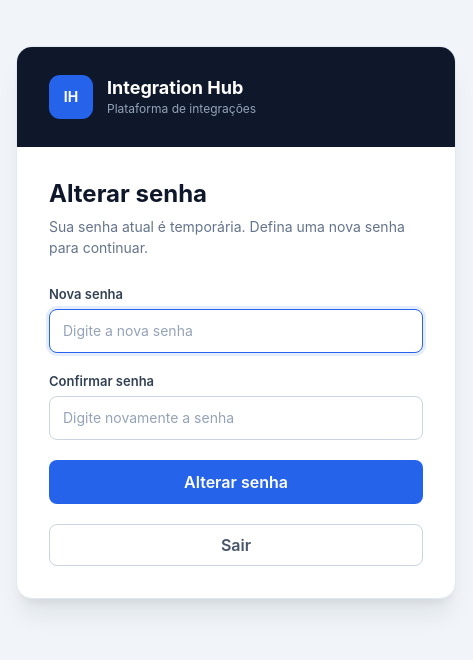
Scenario: ChangePasswordPage › valida confirmação e tamanho mínimo da senha
This screenshot has width=473, height=660.
Type "123" into the password field labelled "Nova senha".
click(236, 330); type("123")  # box [49,308,423,352]
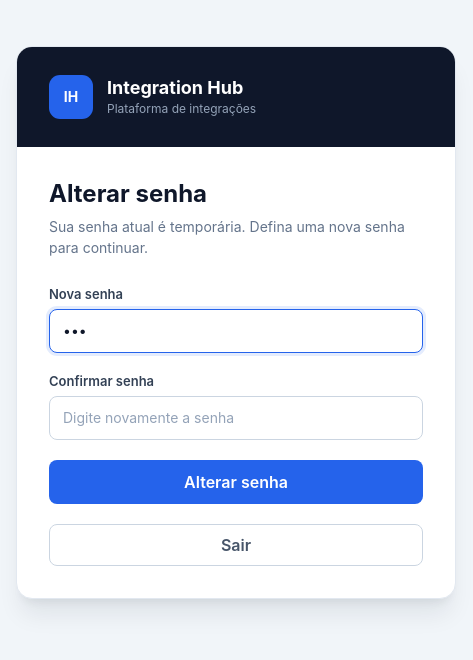
Type "123" into the password field labelled "Confirmar senha".
click(236, 418); type("123")  # box [49,396,423,440]
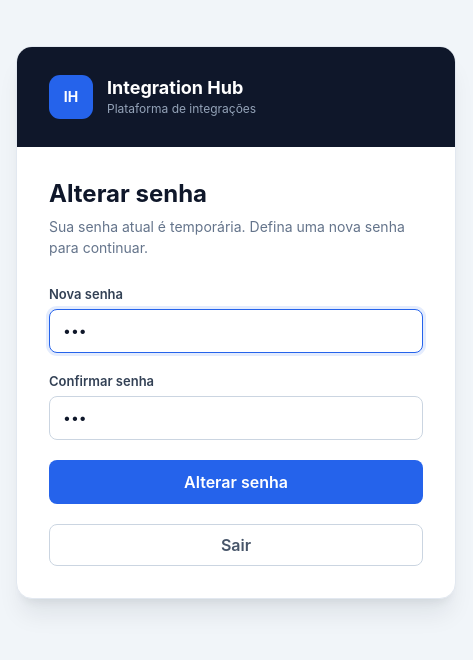
Click the button "Alterar senha".
click(236, 482)  # box [49,460,423,504]
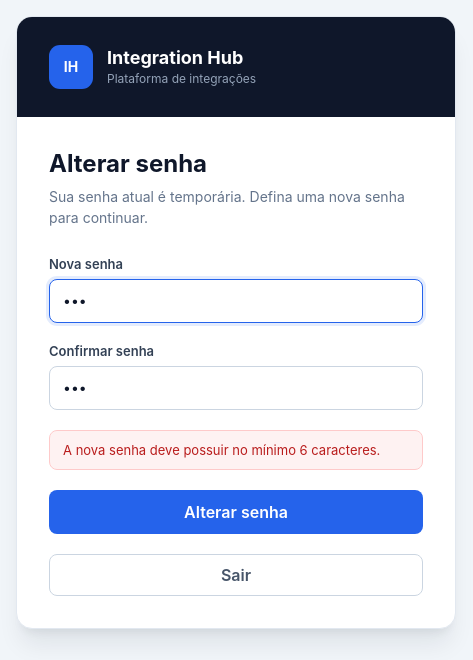
Check: the message shows "no mínimo 6 caracteres", box [63,442,380,458]
